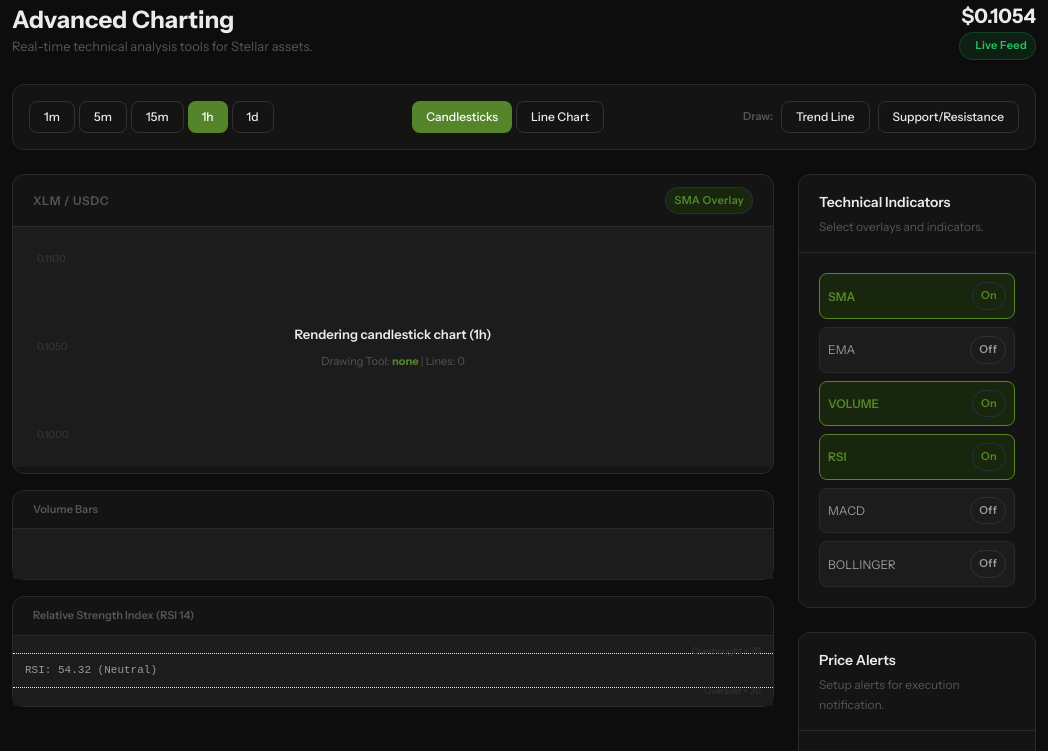
Test: ChartingScreen › can toggle technical indicators
The width and height of the screenshot is (1048, 751).
Expected: the text "SMA Overlay" is shown, [665,187,753,214]
Toggle Bollinger Bands On
Click the button "BOLLINGER Off". click: x=917, y=564
box: [819,541,1015,587]
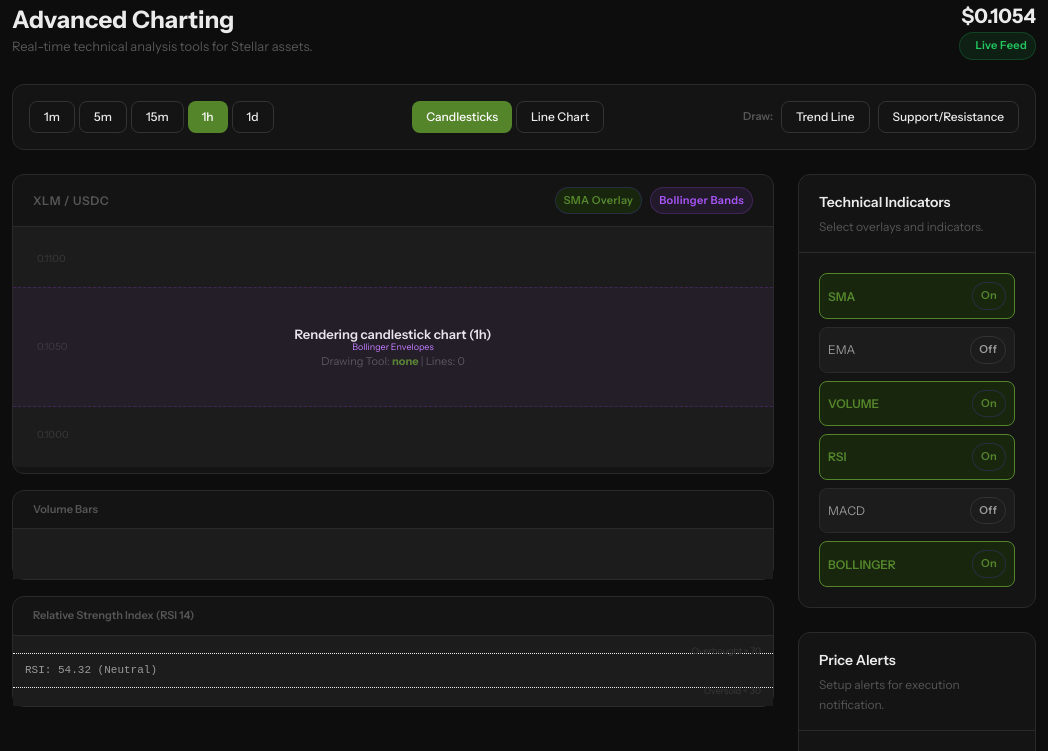
Now the text "Bollinger Envelopes" is shown, box [352,340,434,355]
